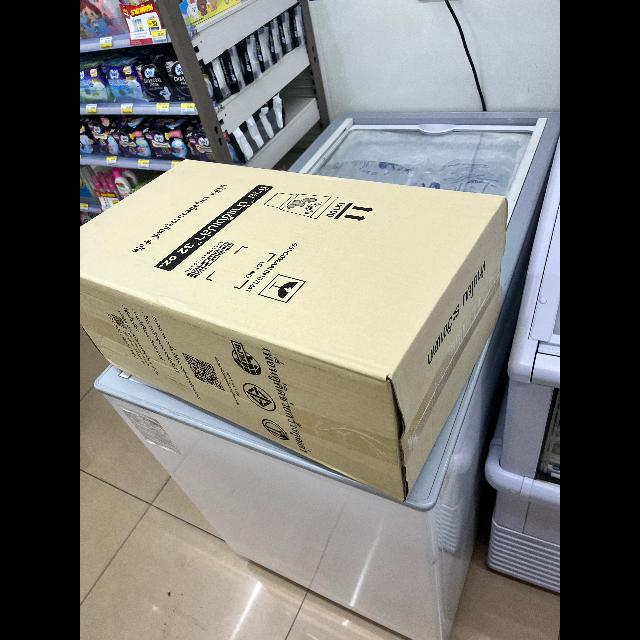cardboard_box: (80, 162, 510, 493)
